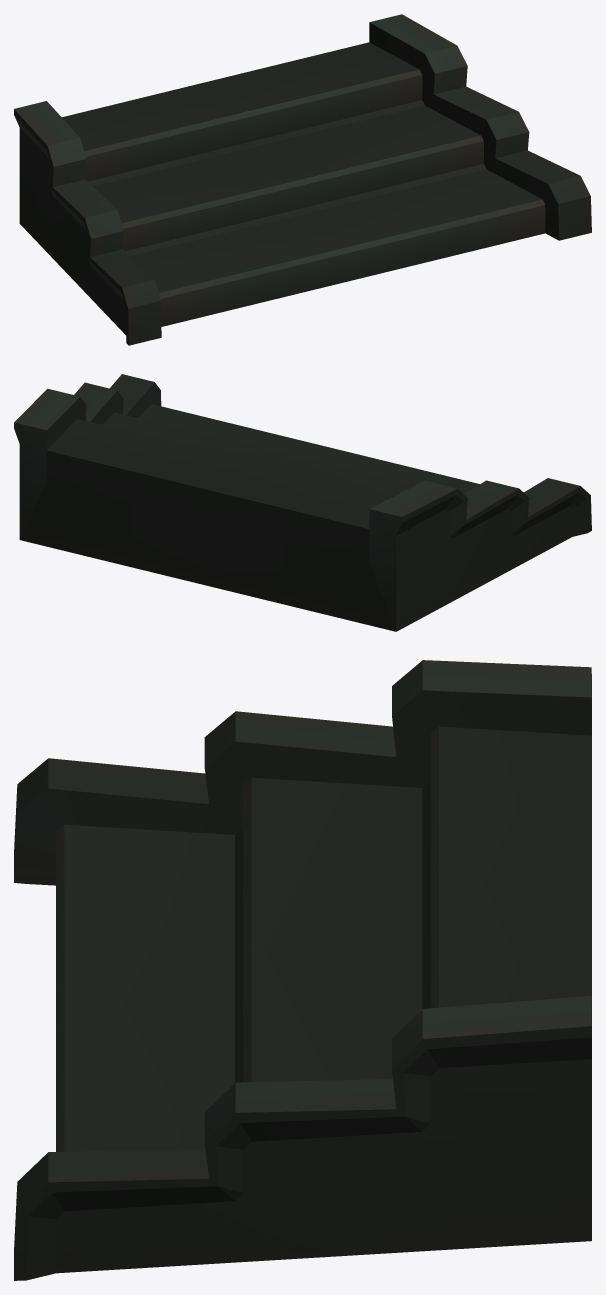
The model's file is Prop_lader_01.fbx.
3 views of the same model, one above another, from view 1: azimuth 30°, elevation 25°; view 2: azimuth 150°, elevation 25°; view 3: azimuth 270°, elevation 25° (orthographic). The views are drawn at different scales.
Visible parts, largest first — view 1: Ladder; view 2: Ladder; view 3: Ladder.
Boxes of the visible parts, x1,y1,x2,y2 form: Ladder: [14, 14, 591, 345]; Ladder: [14, 374, 591, 631]; Ladder: [14, 660, 591, 1280].
Size of the model in its own units: 478 by 115 by 272.
